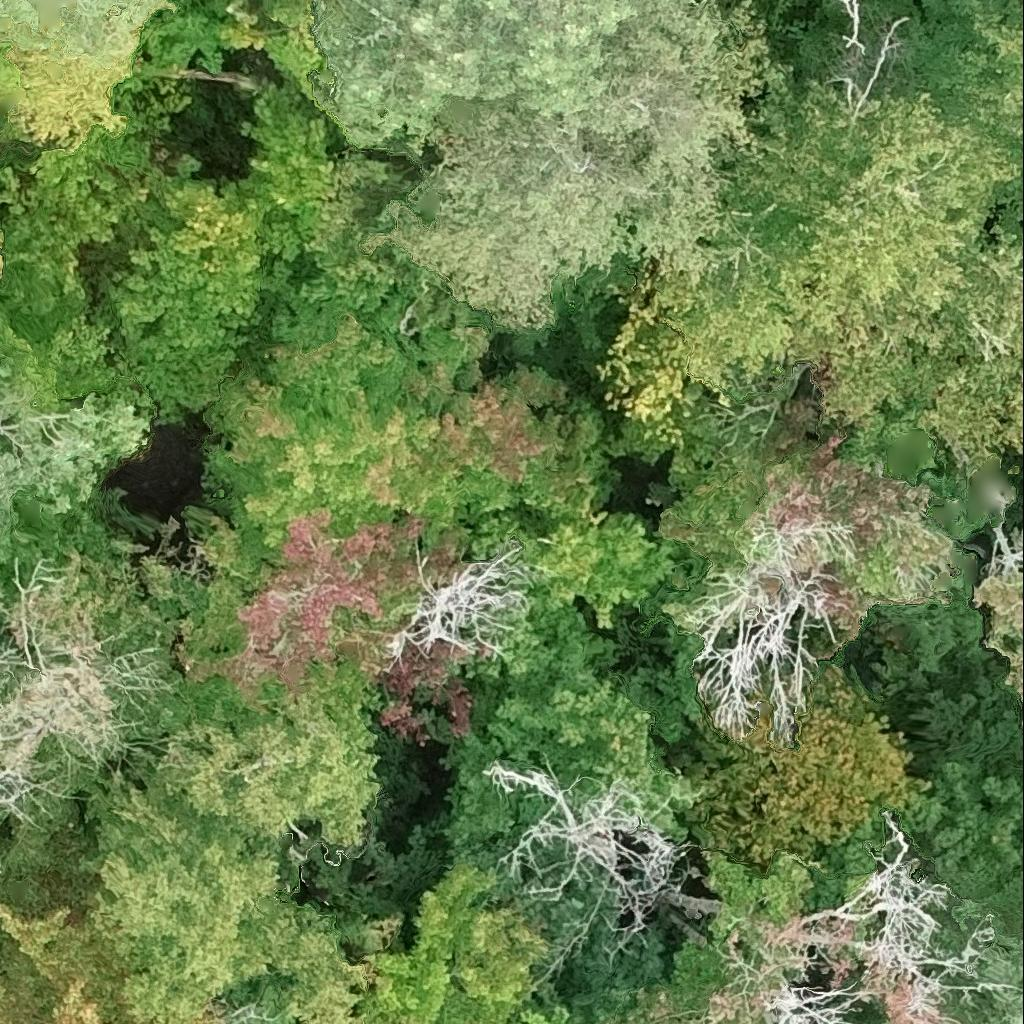crown: (80, 783, 380, 1023), (0, 897, 133, 1023), (201, 997, 223, 1023)
